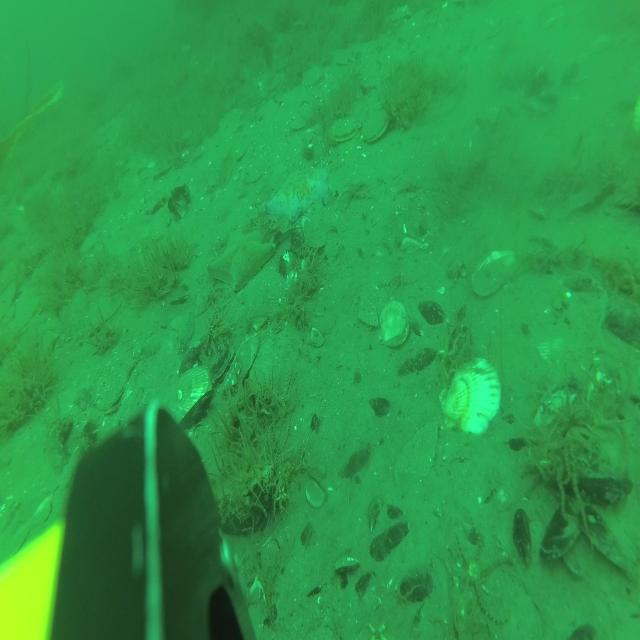scallop: (436, 360, 500, 436), (161, 367, 213, 429), (469, 248, 517, 298), (95, 357, 127, 409), (380, 299, 409, 348), (364, 102, 389, 147), (330, 115, 357, 142)
starfish: (264, 160, 330, 221), (208, 229, 274, 289)
